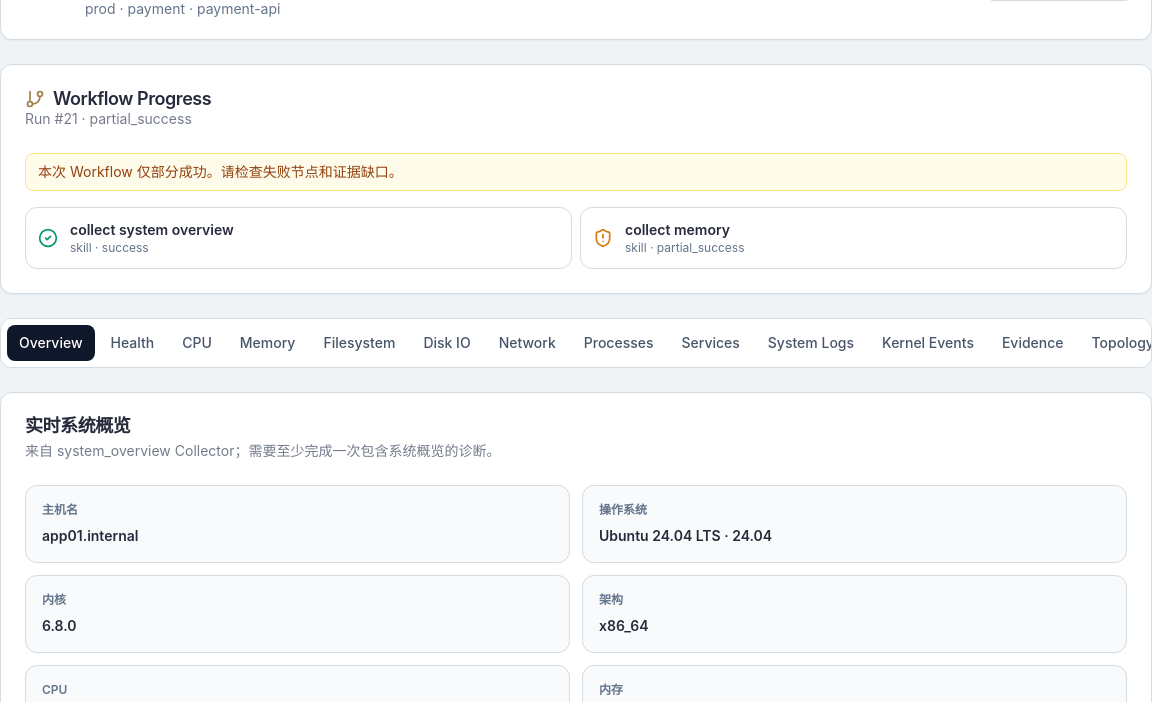
it: LinuxAnalysisPage › never renders raw command output or credential fields
The width and height of the screenshot is (1152, 702).
(page scrolled)
Click the button "Evidence" at (1033, 342), box [990,324,1076,360]
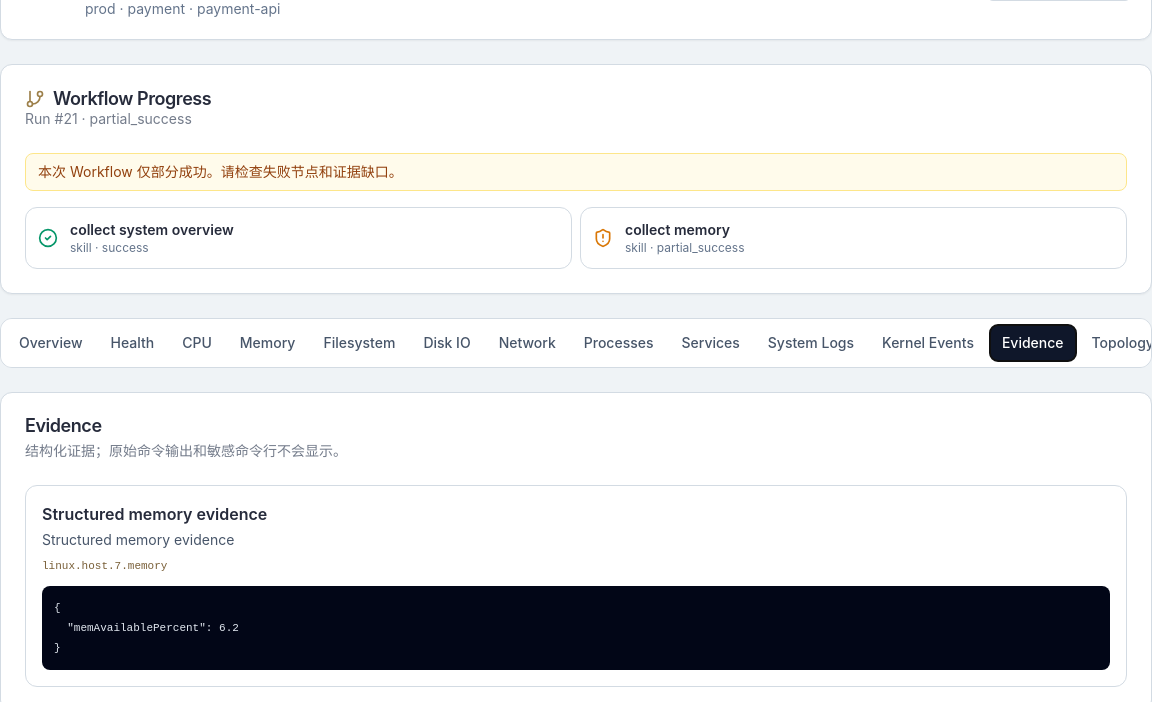
expect the 1st text "Structured memory evidence" is shown: met, box [42,502,267,526]
